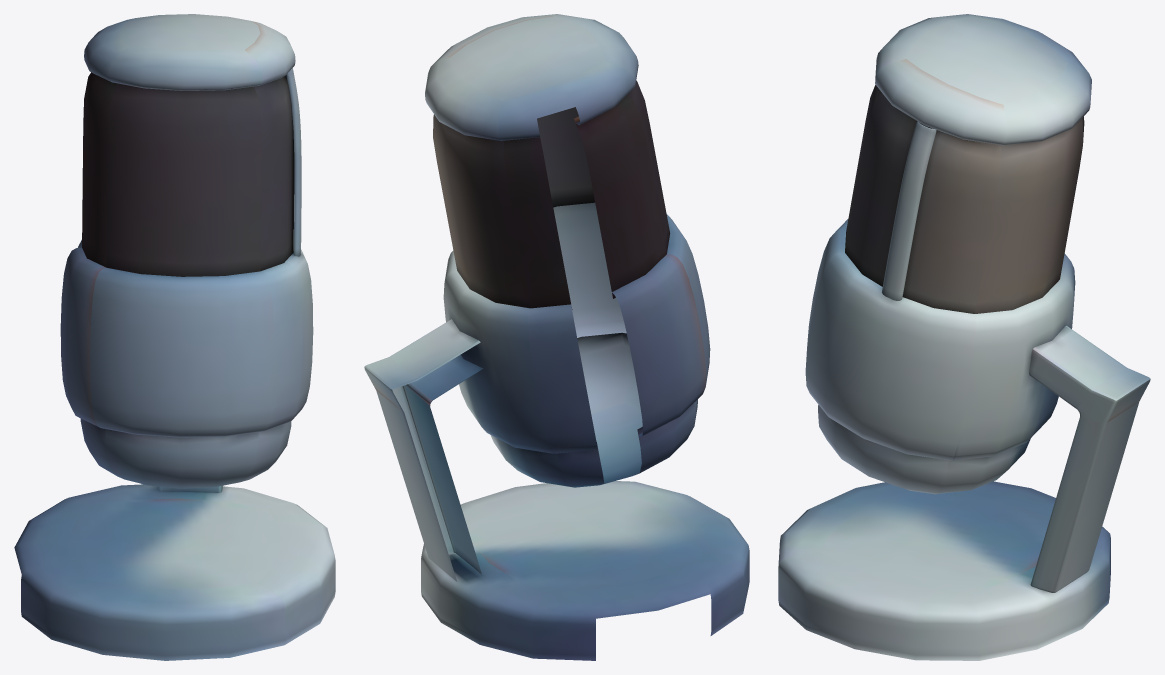
The model's file is microphone.glb.
The picture shows the model from 3 angles, left to right: view 1: azimuth 30°, elevation 25°; view 2: azimuth 150°, elevation 25°; view 3: azimuth 270°, elevation 25°; orthographic projection. The views are drawn at different scales.
Parts seen in each view (by area): view 1: Microphone_Hover_Third_Raycaster; view 2: Microphone_Hover_Third_Raycaster; view 3: Microphone_Hover_Third_Raycaster.
Boxes of the visible parts, box(x1,y1,x2,y2) form: Microphone_Hover_Third_Raycaster: box(14, 14, 335, 660); Microphone_Hover_Third_Raycaster: box(364, 14, 749, 660); Microphone_Hover_Third_Raycaster: box(778, 14, 1150, 660).
Size of the model in its own units: 0.3343 by 0.6232 by 0.3741.
Materials: 1 (1 with a texture image).
